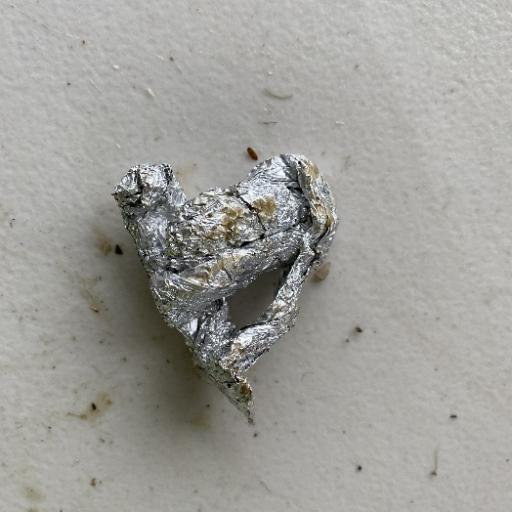Metal: (109, 150, 340, 426)
